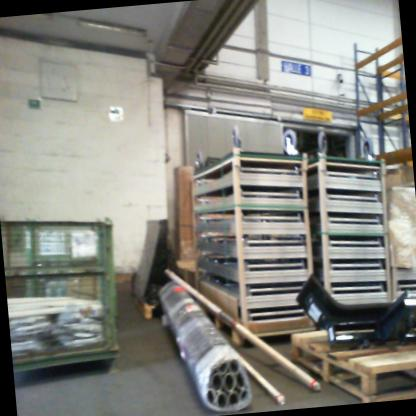pallet: (284, 311, 416, 406), (198, 291, 320, 355)
stillage: (1, 203, 134, 388)
